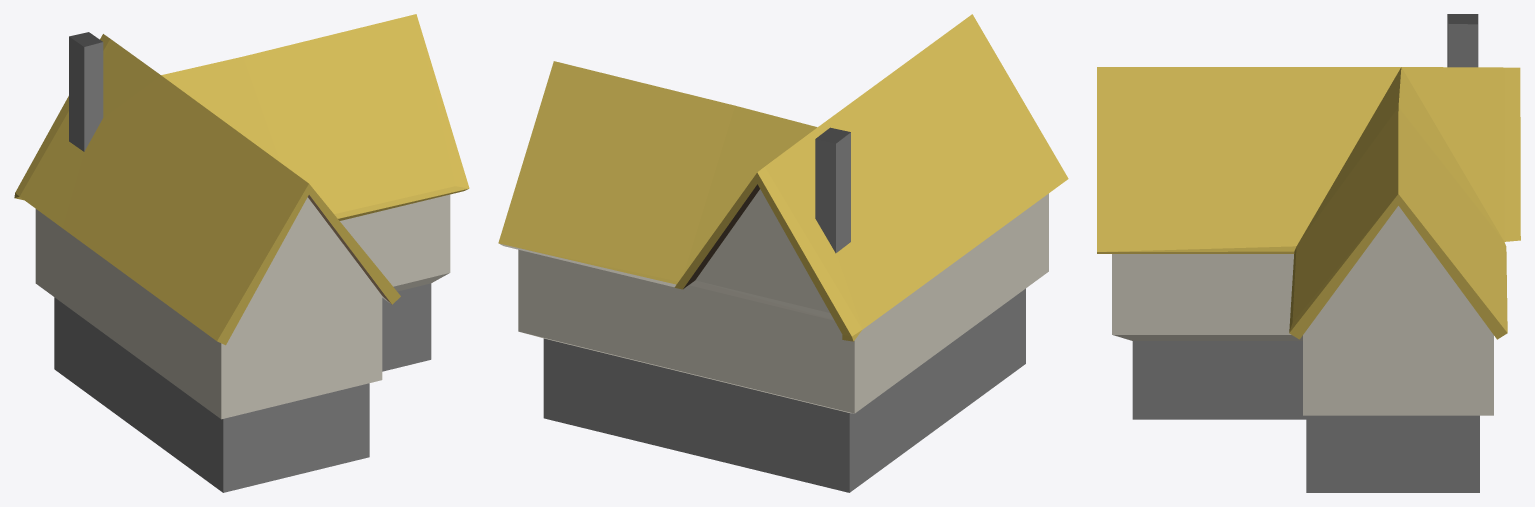
File: VilaNova_House2x3_textured.fbx
The picture shows the model from 3 angles, left to right: view 1: azimuth 30°, elevation 25°; view 2: azimuth 150°, elevation 25°; view 3: azimuth 270°, elevation 25°; orthographic projection. The views are drawn at different scales.
Visible parts, largest first — view 1: House2x2_LOD0; view 2: House2x2_LOD0; view 3: House2x2_LOD0.
Boxes of the visible parts, x1,y1,x2,y2 form: House2x2_LOD0: (14, 14, 469, 492); House2x2_LOD0: (498, 14, 1068, 492); House2x2_LOD0: (1097, 14, 1520, 492).
Bounding box in the file's own units: 430 × 392 × 444.
